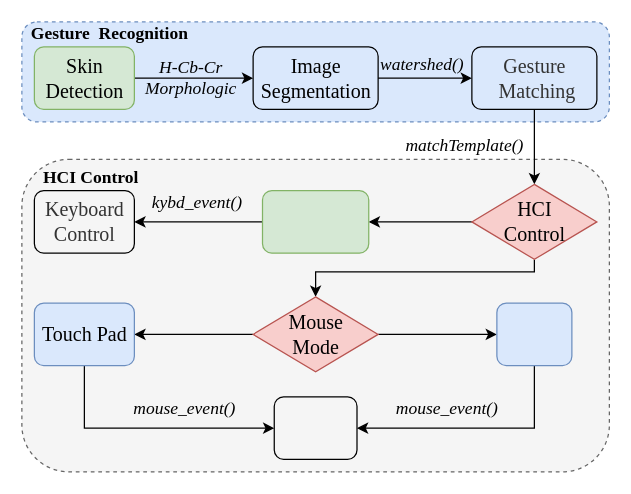
The diagram is 631 pixels wide and 494 high, and some of its shapes have lost their labels. Here are the shapes that lost their labels. From the top down, the centre of each, then its label:
At point 315,221: "Trajactory Detection".
At point 534,334: "Red Dot".
At point 315,427: "Mouse Control".
